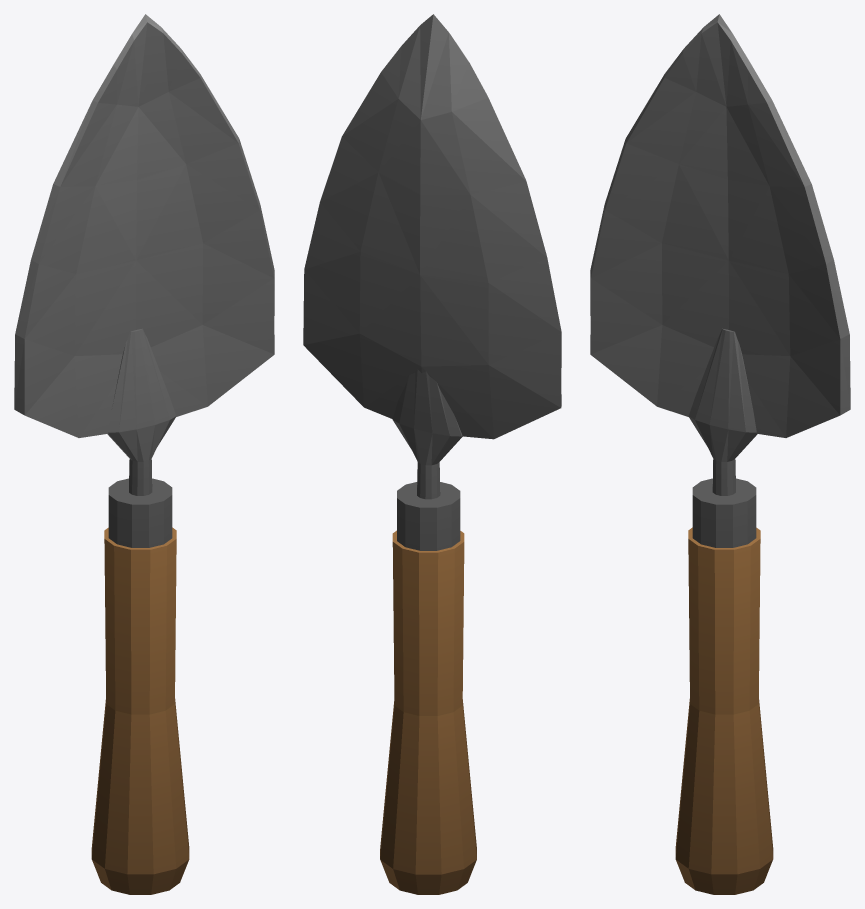
Rendered from Tool_Trowel_01.obj.
The picture shows the model from 3 angles, left to right: view 1: azimuth 30°, elevation 25°; view 2: azimuth 150°, elevation 25°; view 3: azimuth 330°, elevation 25°; orthographic projection.
Visible parts, largest first — view 1: Tool_Trowel_01; view 2: Tool_Trowel_01; view 3: Tool_Trowel_01.
Part boxes in pixels (box(x1,y1,x2,y2)): Tool_Trowel_01: box(14, 14, 274, 894); Tool_Trowel_01: box(303, 14, 561, 894); Tool_Trowel_01: box(590, 14, 850, 894).
Bounding box in the file's own units: 0.0929 × 0.2996 × 0.0302.
Materials: 1 (1 with a texture image).
